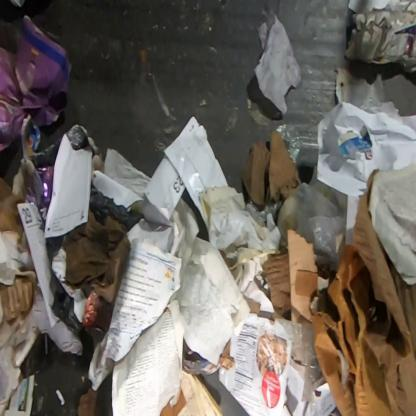cardboard: (286, 170, 415, 415), (344, 0, 415, 75), (240, 129, 302, 207), (263, 251, 292, 318), (26, 166, 54, 232)
rigid_plastic: (276, 122, 300, 164)
soft_plastic: (245, 166, 347, 289)
